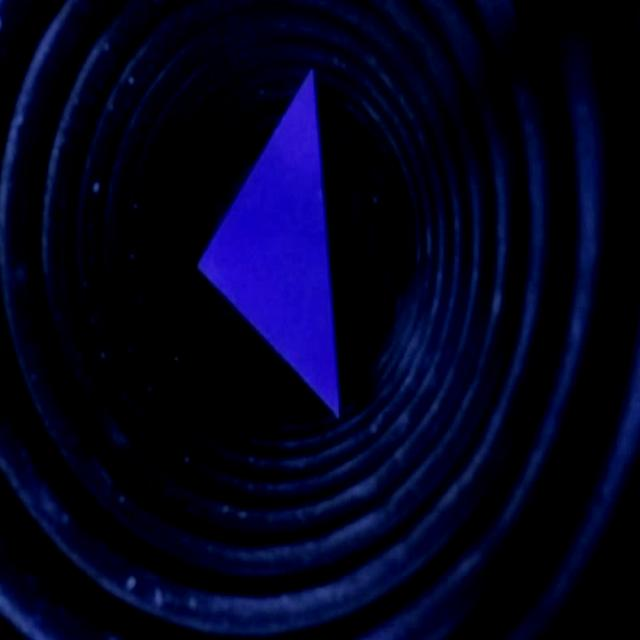obstacles: (196, 63, 339, 416)
